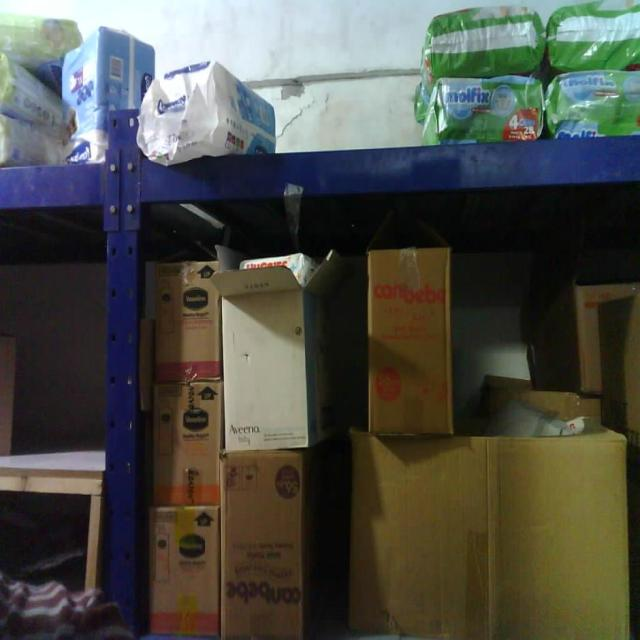box: (350, 431, 632, 640), (367, 244, 453, 438), (223, 450, 304, 640), (148, 504, 222, 640), (149, 262, 222, 386), (151, 380, 224, 504)
